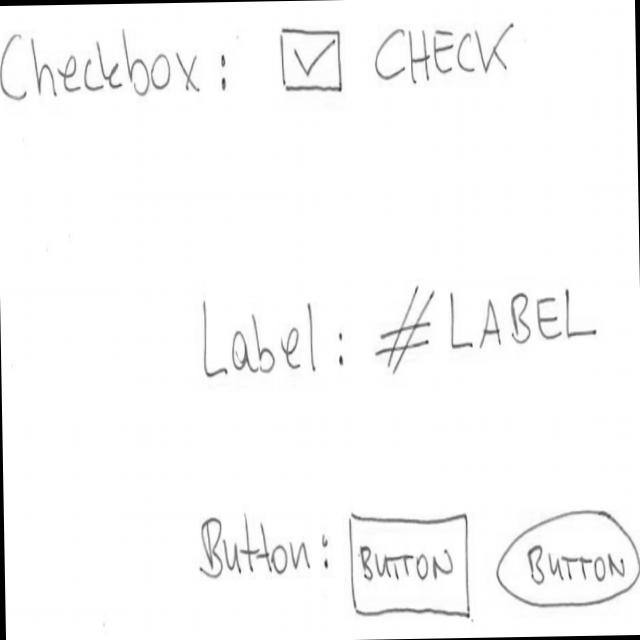button: (348, 507, 477, 626), (494, 506, 640, 611)
checkbox: (279, 17, 524, 97)
label: (372, 277, 604, 379)
